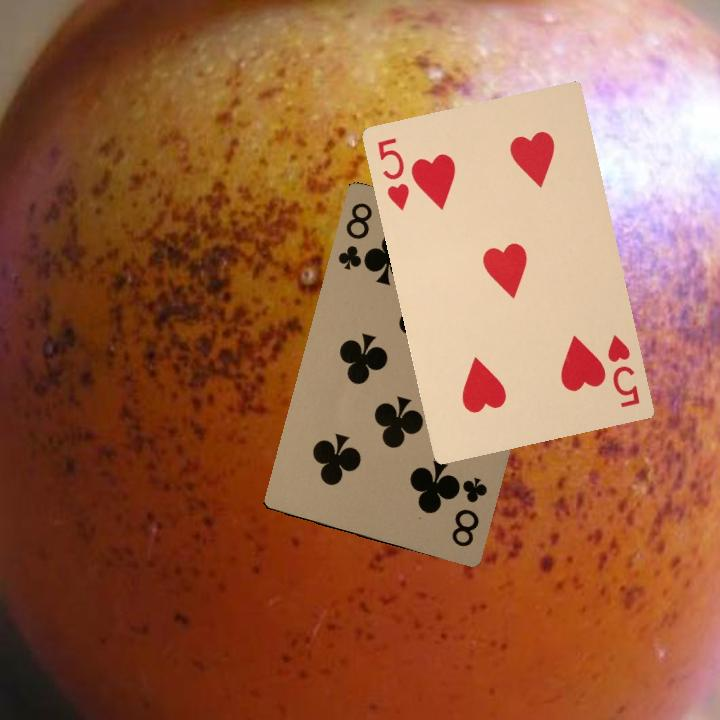5h: (603, 330, 642, 410), (373, 134, 412, 213)
8c: (447, 473, 490, 549), (334, 198, 375, 272)
